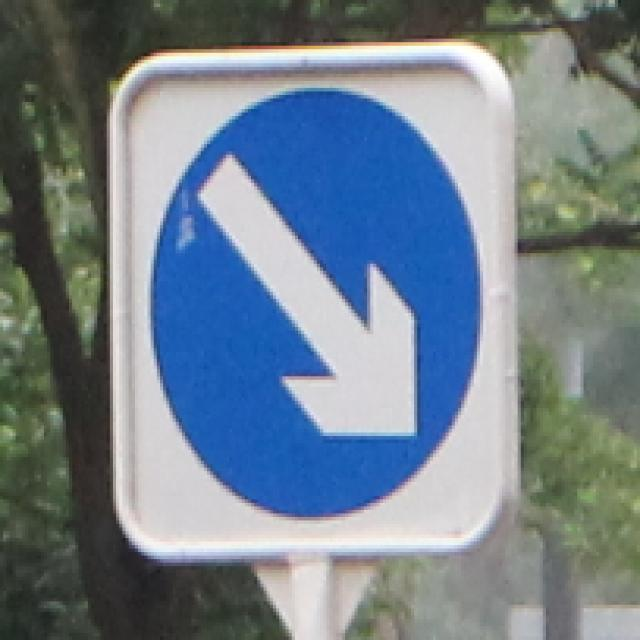Right: (133, 89, 512, 532)
